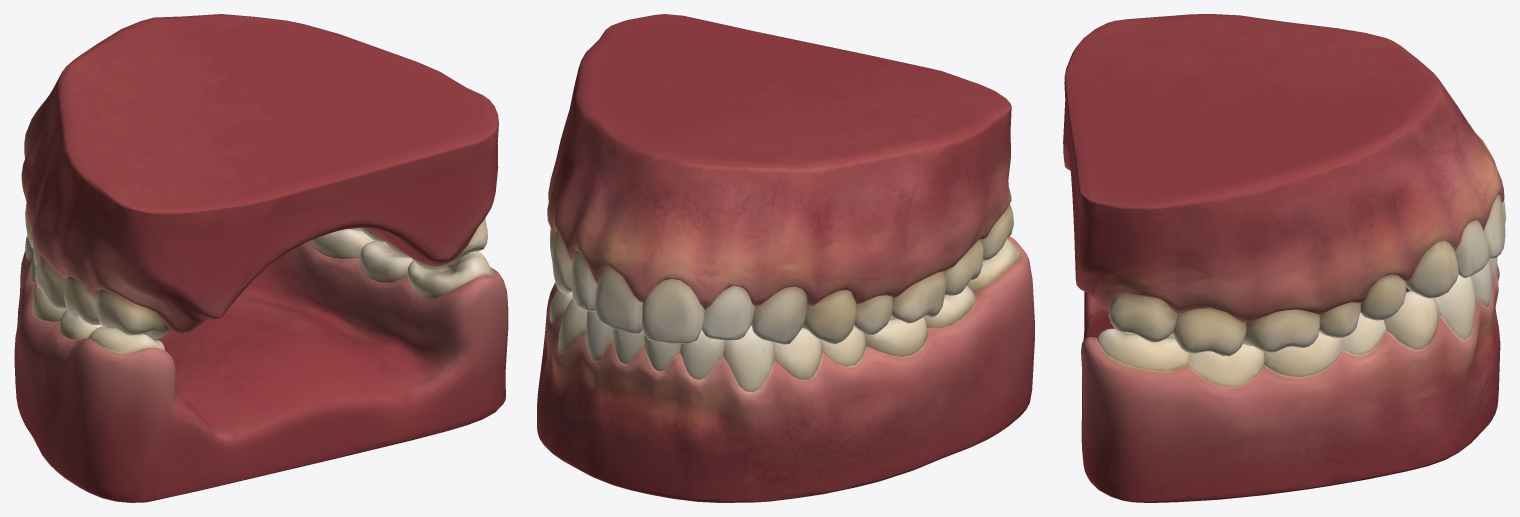
The model's file is teeth2.glb.
3 views of the same model, side by side, from view 1: azimuth 30°, elevation 25°; view 2: azimuth 150°, elevation 25°; view 3: azimuth 270°, elevation 25° (orthographic).
Visible parts, largest first — view 1: Top_jaw_KP, Bottom_jaw_LP; view 2: Top_jaw_KP, Bottom_jaw_LP; view 3: Top_jaw_KP, Bottom_jaw_LP.
Part boxes in pixels (x1,y1,x2,y2): Top_jaw_KP: (21, 14, 498, 339); Bottom_jaw_LP: (14, 228, 508, 502); Top_jaw_KP: (547, 14, 1013, 344); Bottom_jaw_LP: (537, 236, 1034, 502); Top_jaw_KP: (1063, 14, 1505, 356); Bottom_jaw_LP: (1081, 257, 1500, 502).
Size of the model in its own units: 0.2808 by 0.1998 by 0.2532.
Materials: 2 (2 with a texture image).
